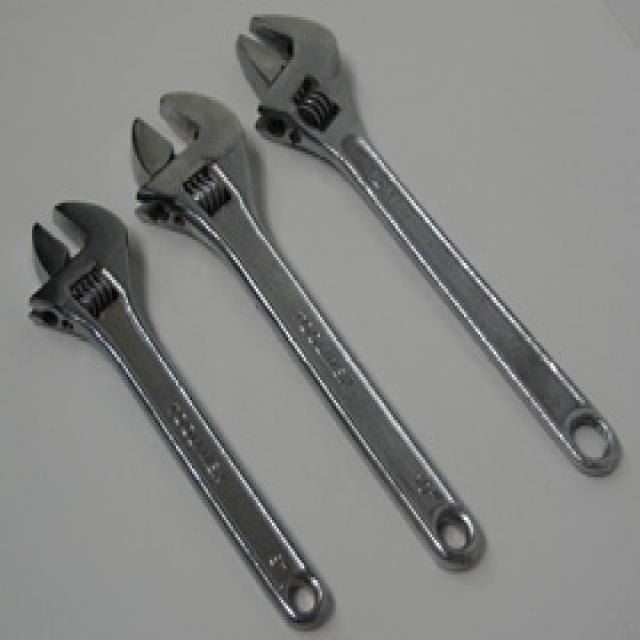wrench: (233, 6, 623, 482), (113, 81, 486, 574), (20, 192, 328, 630)
